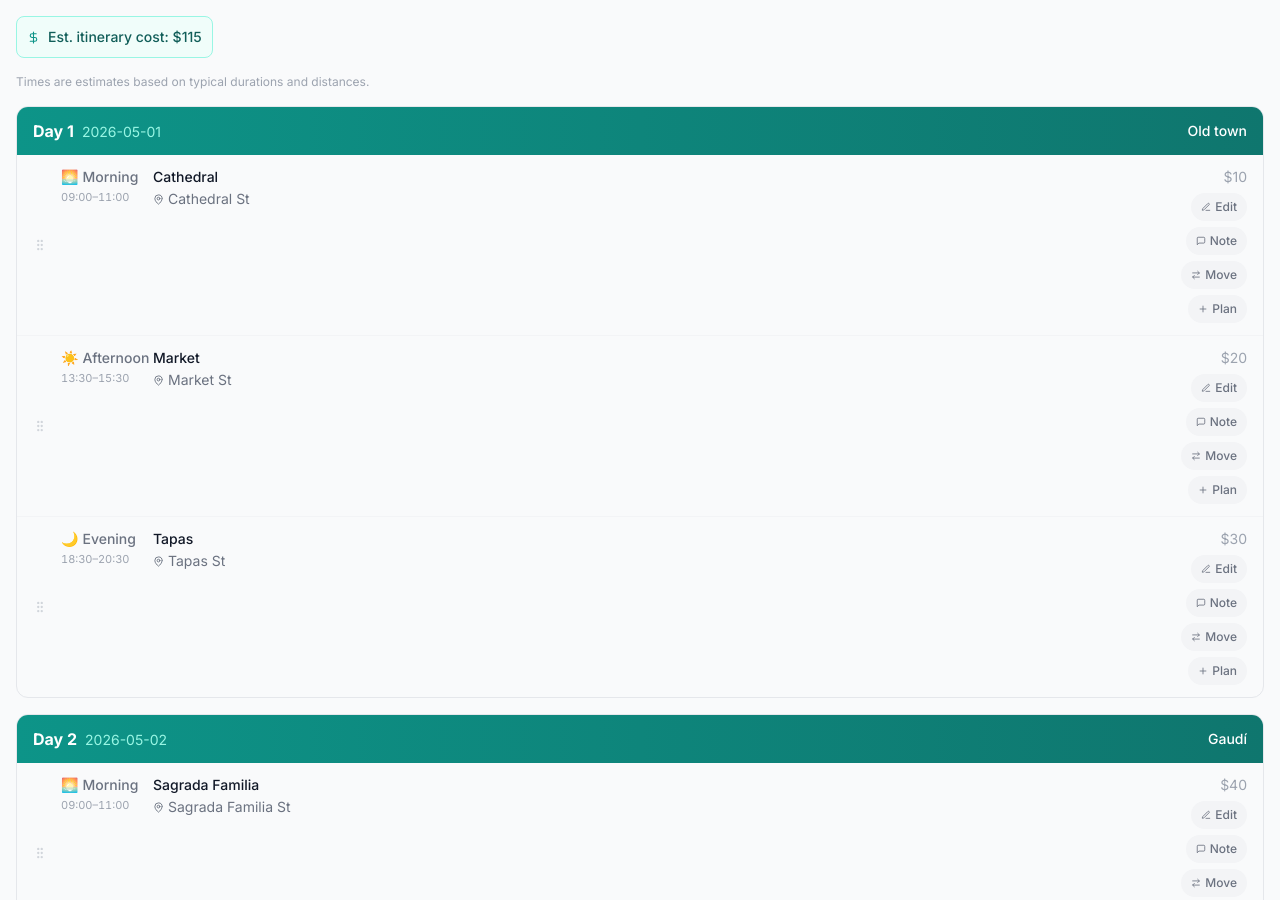
Test: ItinerarySection › a row with its note open is not draggable
This screenshot has width=1280, height=900.
Click the button "Note" below "10" at (1216, 241), box [1186,227,1247,255]
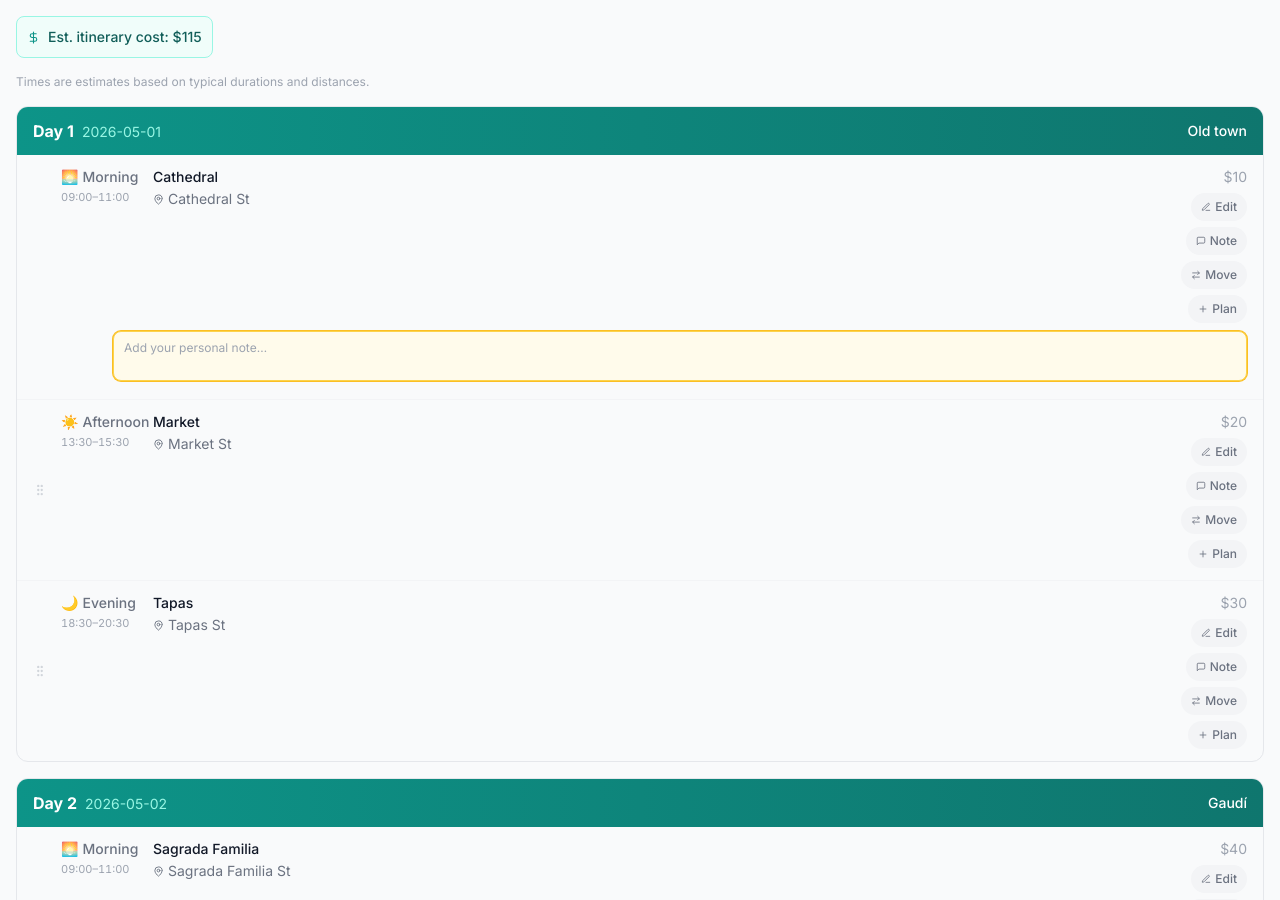
Now the text box with placeholder "Add your personal note…" is shown, box [113,331,1247,381]
